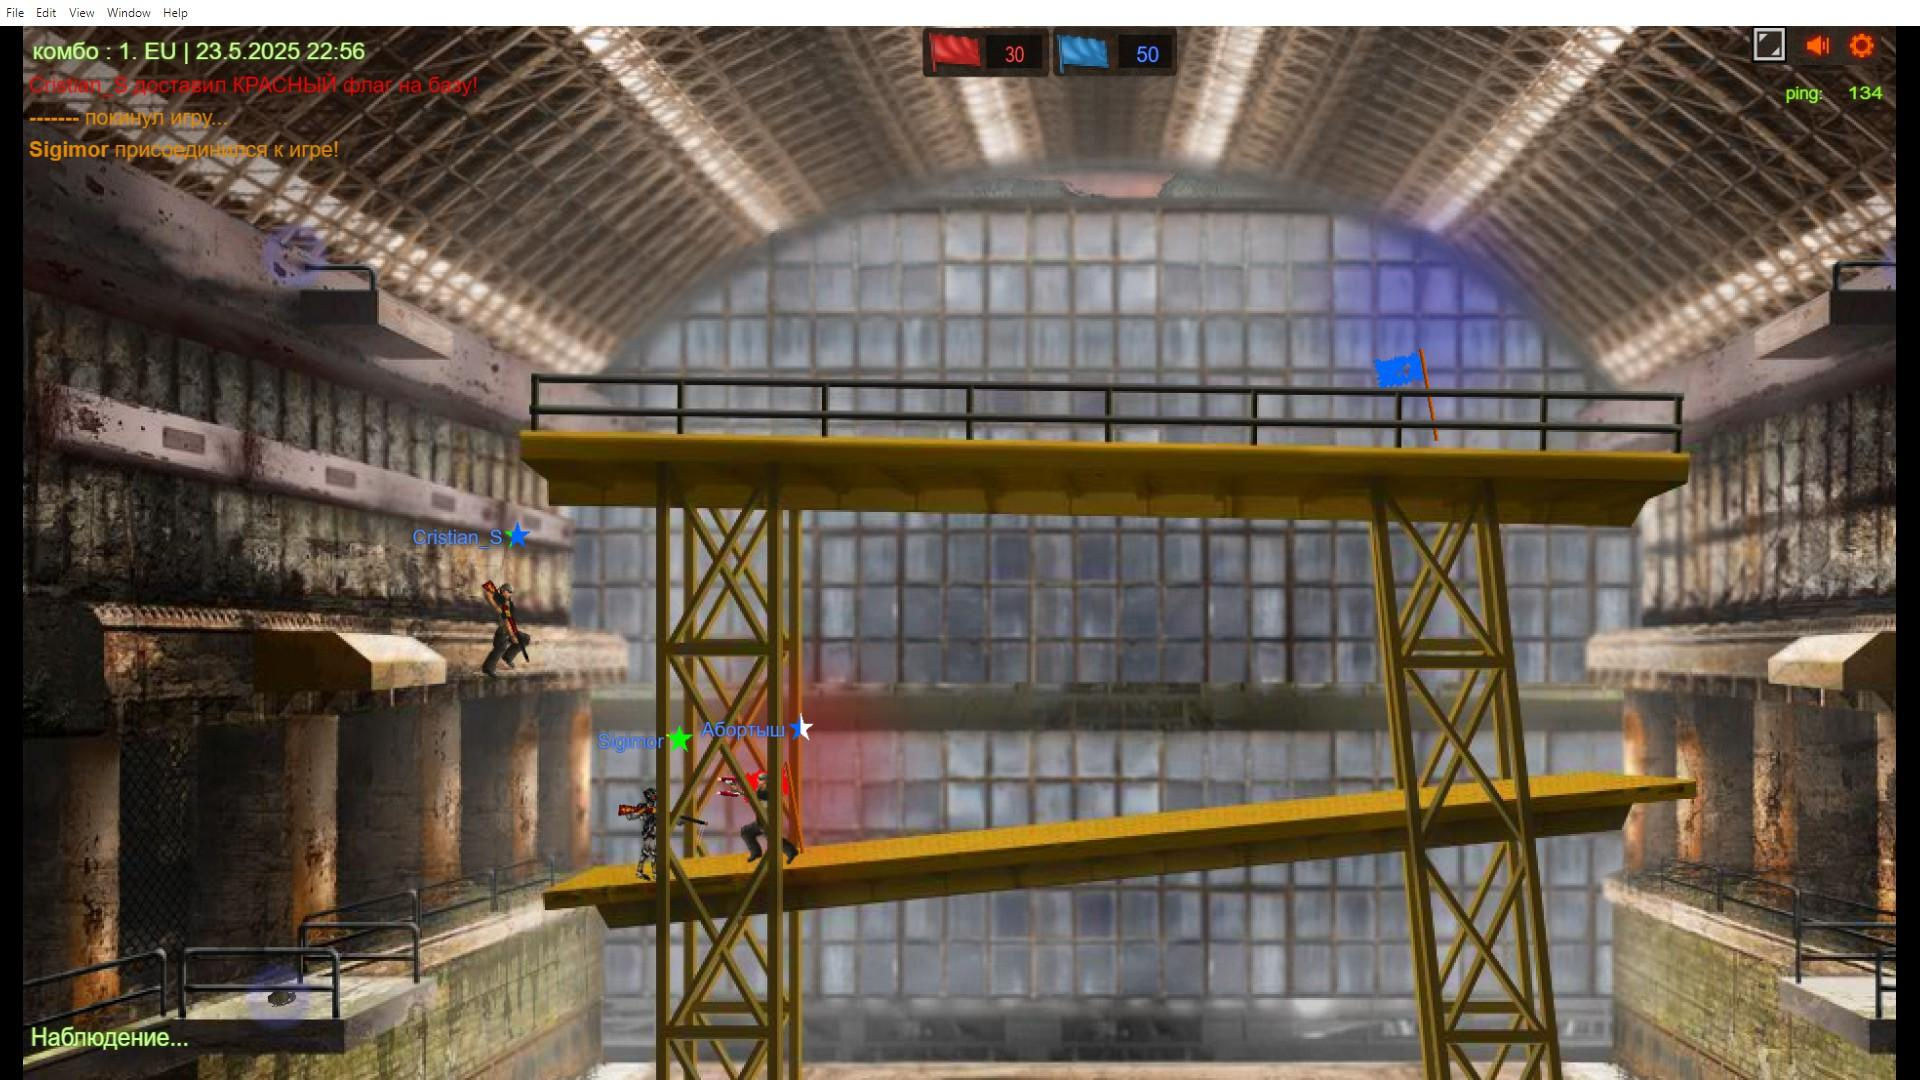enemy: (470, 574, 540, 689), (738, 771, 806, 873), (621, 773, 680, 880)
